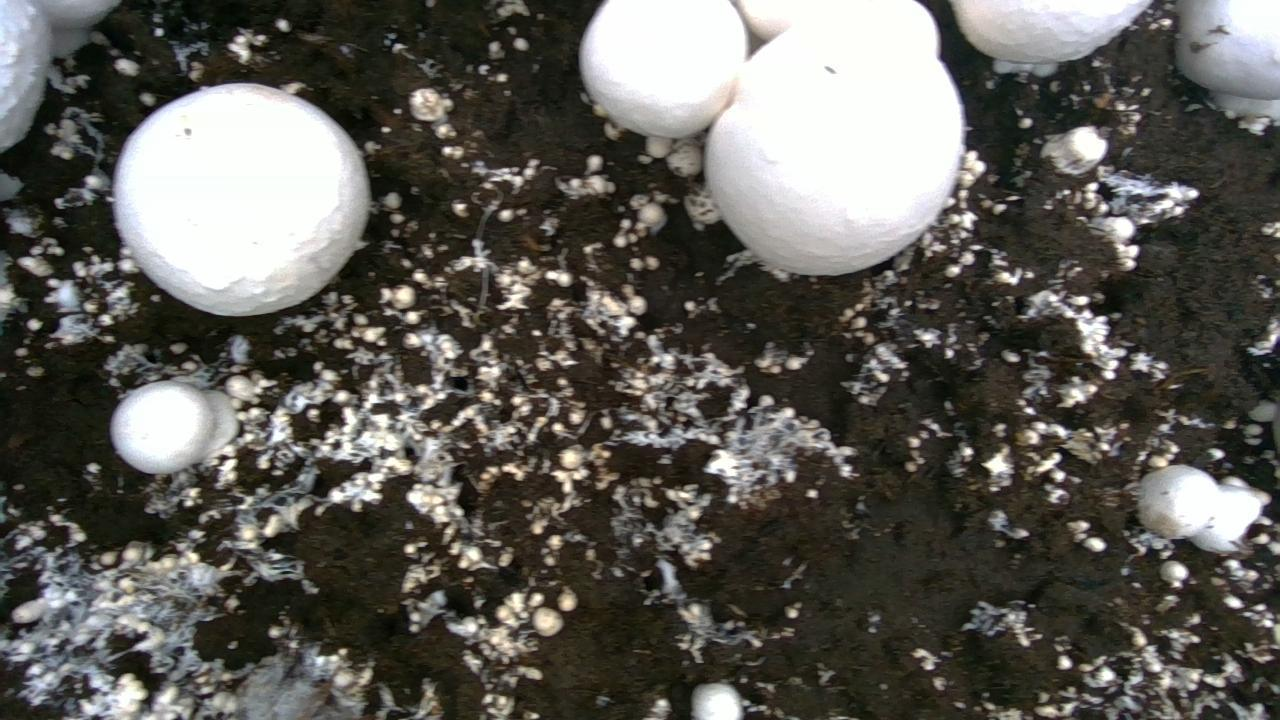WB: (705, 21, 966, 274), (113, 83, 370, 315), (579, 0, 746, 137), (952, 0, 1150, 76), (1175, 0, 1279, 124), (110, 381, 238, 473), (739, 0, 941, 54), (1138, 465, 1219, 538), (1191, 484, 1261, 552)
